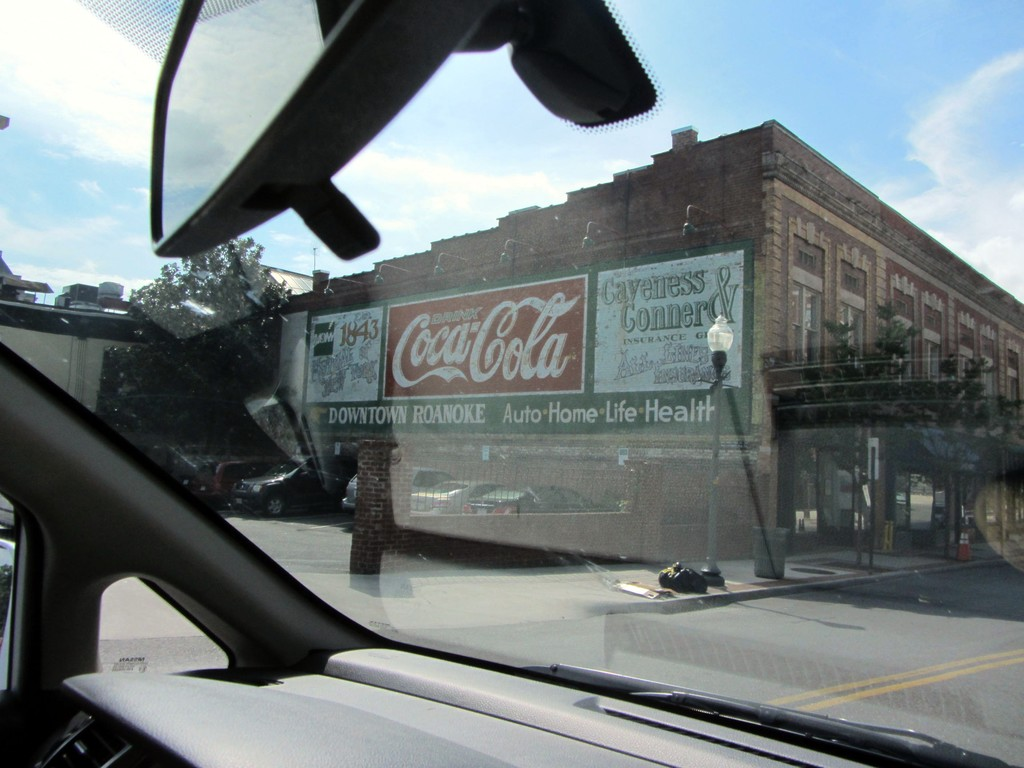cars: (0, 0, 1023, 767), (157, 440, 614, 521), (0, 534, 17, 690), (0, 492, 17, 529)
